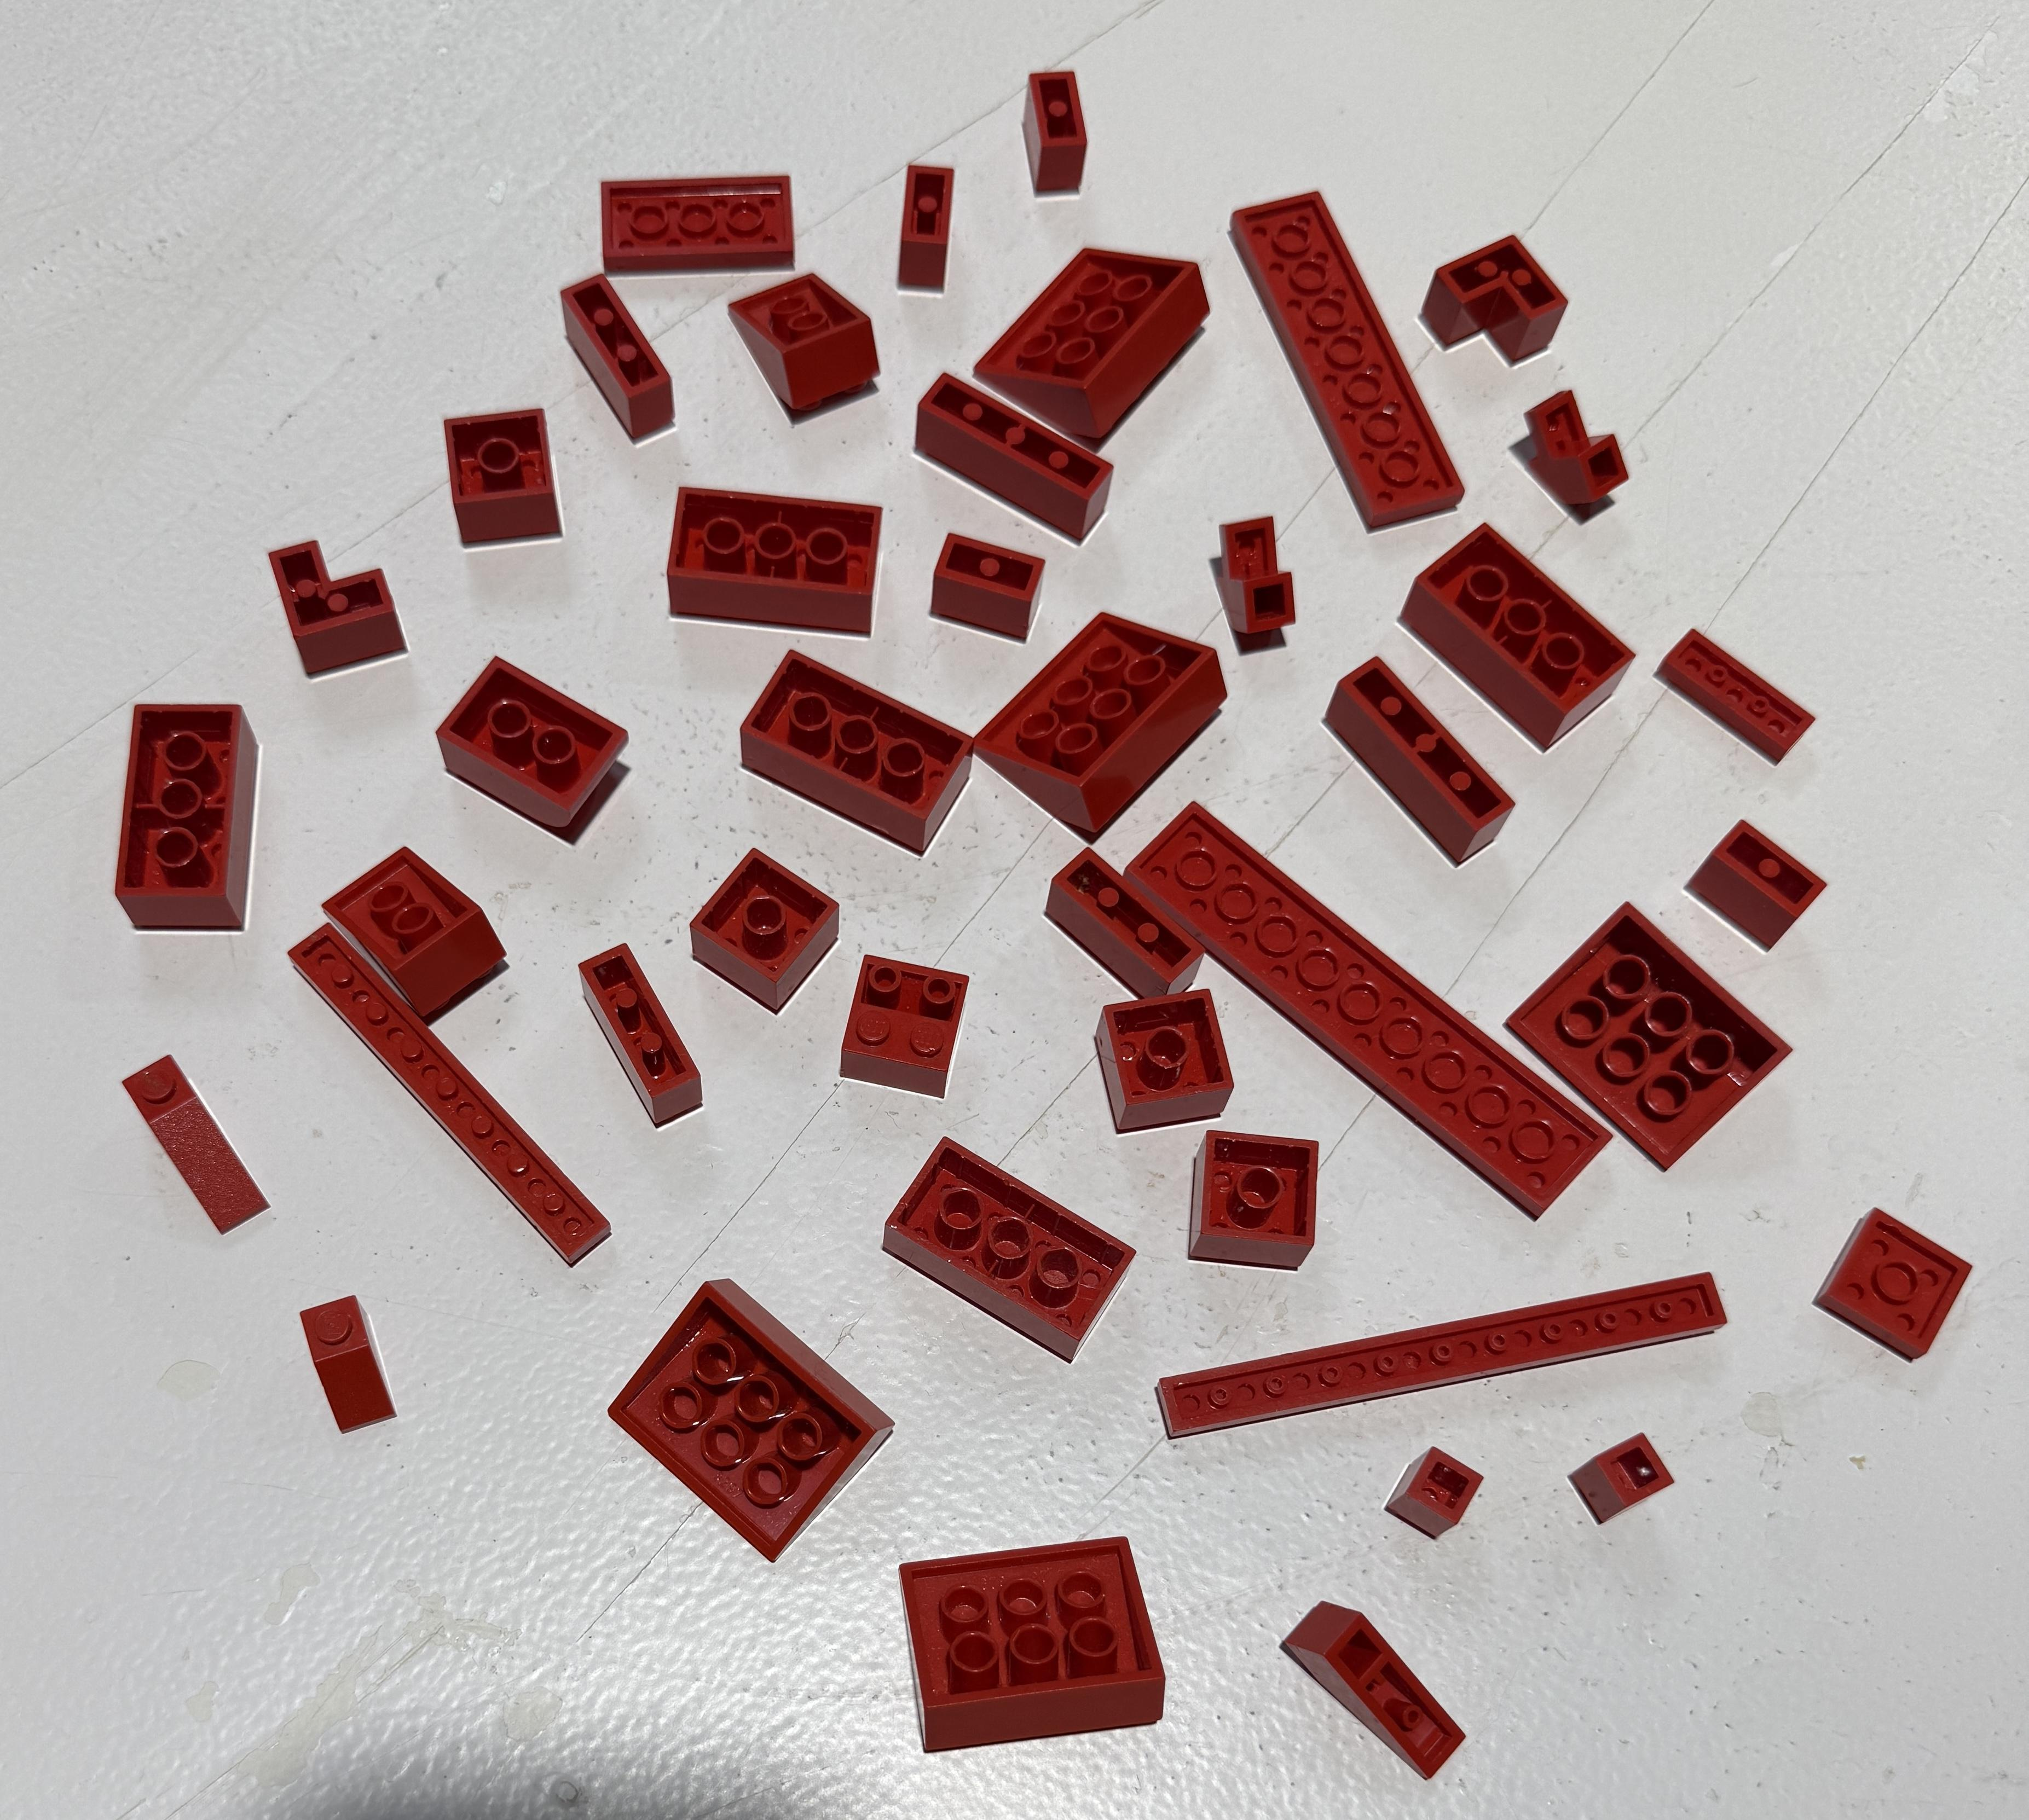Special_02: (427, 622, 641, 849), (309, 829, 516, 1024)
brick_1x1: (1555, 1412, 1688, 1549), (1376, 1416, 1495, 1562)
brick_1x2: (1674, 794, 1838, 959), (913, 509, 1068, 669), (1010, 47, 1105, 216), (884, 132, 973, 307)
brick_1x3: (1021, 827, 1230, 1008), (564, 928, 715, 1137), (531, 253, 683, 455)
brick_1x4: (1314, 631, 1532, 878), (906, 348, 1123, 560)
brick_2x2: (673, 833, 848, 1014), (1079, 966, 1249, 1152), (427, 371, 580, 566), (1170, 1114, 1335, 1288)
brick_2x3: (868, 1112, 1149, 1363), (715, 631, 996, 870), (1390, 509, 1646, 766), (104, 675, 281, 954), (652, 466, 894, 652)
plate_1x10: (1128, 1260, 1755, 1465)
plate_2x10: (1117, 778, 1628, 1253)
plate_2x2: (1792, 1181, 1982, 1370)
plate_2x4: (569, 135, 838, 283)
plate_8x1: (260, 898, 622, 1279), (271, 910, 624, 1284)
plate_8x2: (1217, 160, 1476, 538)
special_04: (251, 494, 418, 696), (1412, 209, 1581, 383)
special_05: (1483, 367, 1657, 518), (1196, 494, 1328, 664)
special_06: (274, 1261, 413, 1451)
special_08: (588, 1260, 899, 1569), (1491, 892, 1806, 1182), (882, 1520, 1219, 1771), (956, 606, 1238, 861), (963, 230, 1224, 459)
